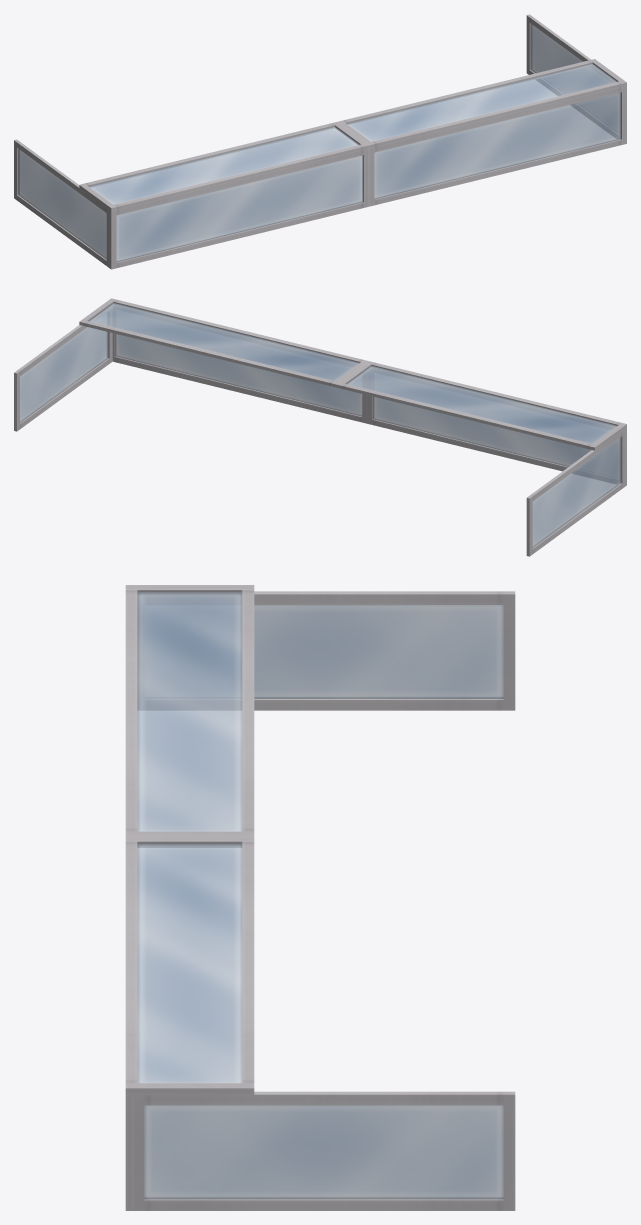
File: jsf_AdditionalWindow_s03.fbx
3 views of the same model, one above another, from view 1: azimuth 30°, elevation 25°; view 2: azimuth 150°, elevation 25°; view 3: azimuth 270°, elevation 25° (orthographic). The views are drawn at different scales.
Visible parts, largest first — view 1: Window, Frame; view 2: Window, Frame; view 3: Window, Frame.
Boxes of the visible parts, x1=… form: Window: x1=18, y1=24, x2=621, y2=262; Frame: x1=14, y1=14, x2=626, y2=269; Window: x1=20, y1=303, x2=621, y2=547; Frame: x1=14, y1=298, x2=626, y2=556; Window: x1=137, y1=592, x2=503, y2=1199; Frame: x1=125, y1=585, x2=515, y2=1210.
Size of the model in its own units: 254 by 28.91 by 83.15.
